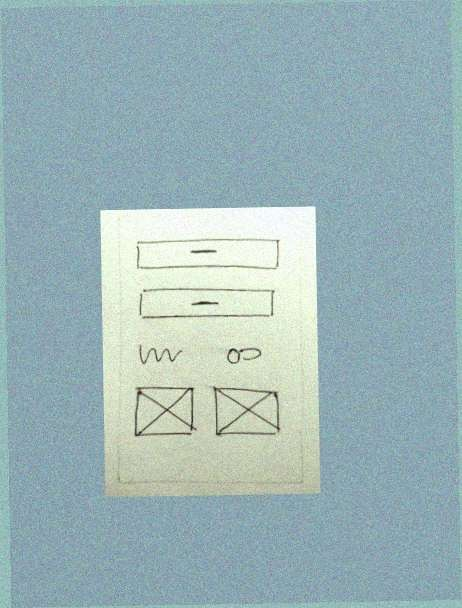button: (131, 234, 283, 275), (137, 283, 280, 324)
image: (128, 378, 202, 441), (210, 383, 288, 442)
switch: (217, 341, 268, 368)
text: (136, 338, 185, 370)
